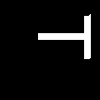half_double_crochet: (38, 14, 90, 58)
